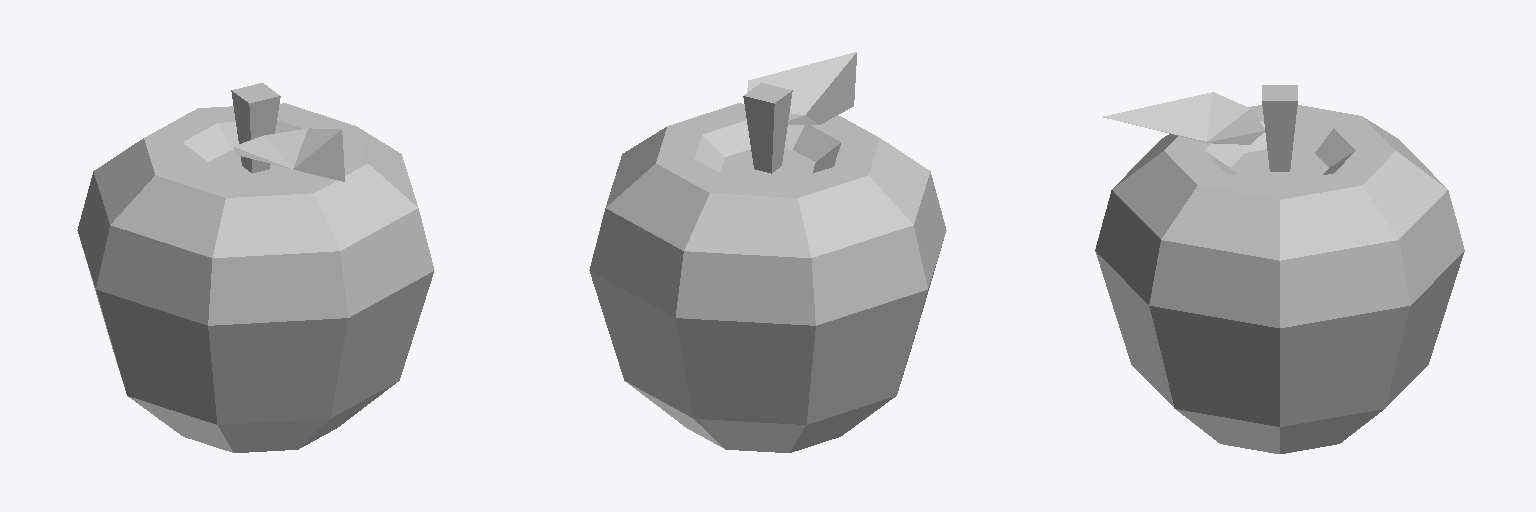
Rendered from apple.obj.
3 views of the same model, side by side, from view 1: azimuth 30°, elevation 25°; view 2: azimuth 150°, elevation 25°; view 3: azimuth 270°, elevation 25° (orthographic).
Parts seen in each view (by area): view 1: apple; view 2: apple; view 3: apple.
Part boxes in pixels (x1,y1,x2,y2): apple: (77, 83, 434, 452); apple: (589, 52, 946, 452); apple: (1095, 85, 1464, 453).
Bounding box in the file's own units: 0.1963 × 0.1908 × 0.1963.